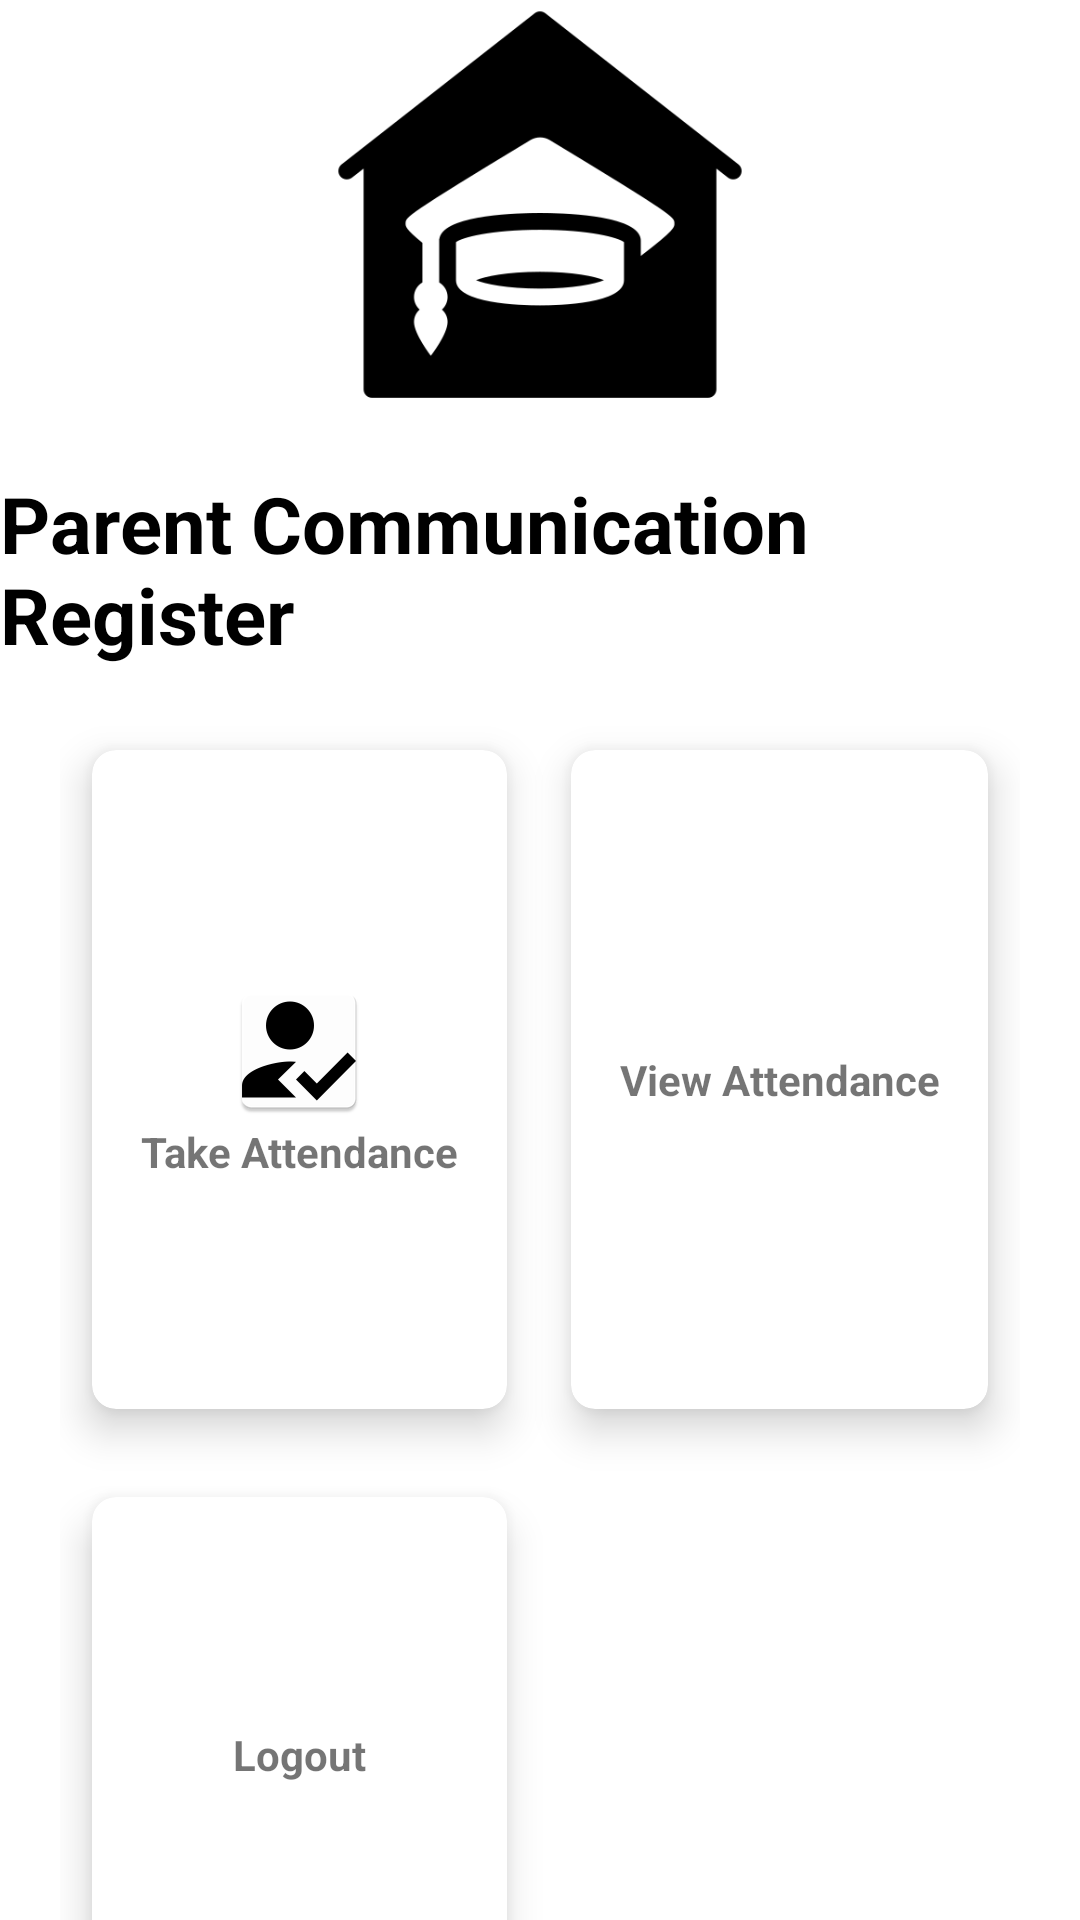

Named icons in this screenshot (1080*1920) and their bounding boxes, Rect(x1, y1, x2, y2):
reg: Rect(242, 1000, 357, 1112)
